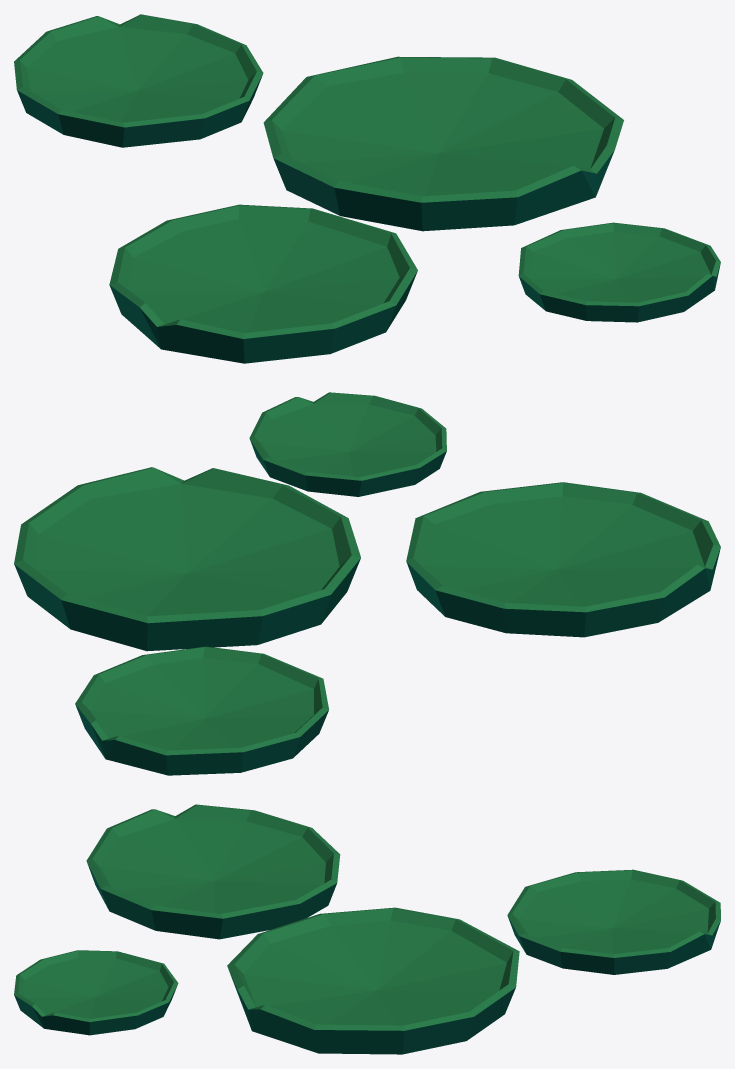
Rendered from SM_Env_Lillypad_Large_02-optimized.glb.
3 renders of one model, top to bottom at view 1: azimuth 30°, elevation 25°; view 2: azimuth 150°, elevation 25°; view 3: azimuth 270°, elevation 25°, orthographic. The views are drawn at different scales.
Parts seen in each view (by area): view 1: SM_Env_Lillypad_Large_02; view 2: SM_Env_Lillypad_Large_02; view 3: SM_Env_Lillypad_Large_02.
Boxes of the visible parts, x1,y1,x2,y2 form: SM_Env_Lillypad_Large_02: (14,14,720,363); SM_Env_Lillypad_Large_02: (14,392,720,775); SM_Env_Lillypad_Large_02: (14,804,720,1054).
Size of the model in its own units: 1.49 by 0.1071 by 1.97.
1 material, 1 textured.
